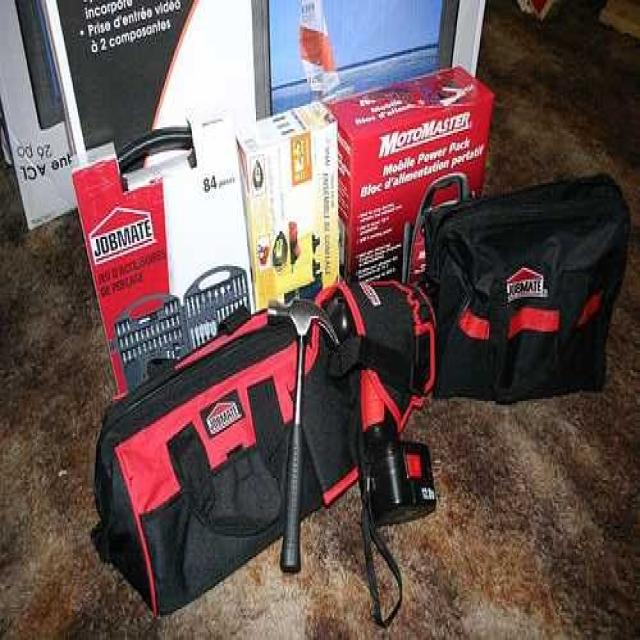hammer: (258, 285, 339, 588)
